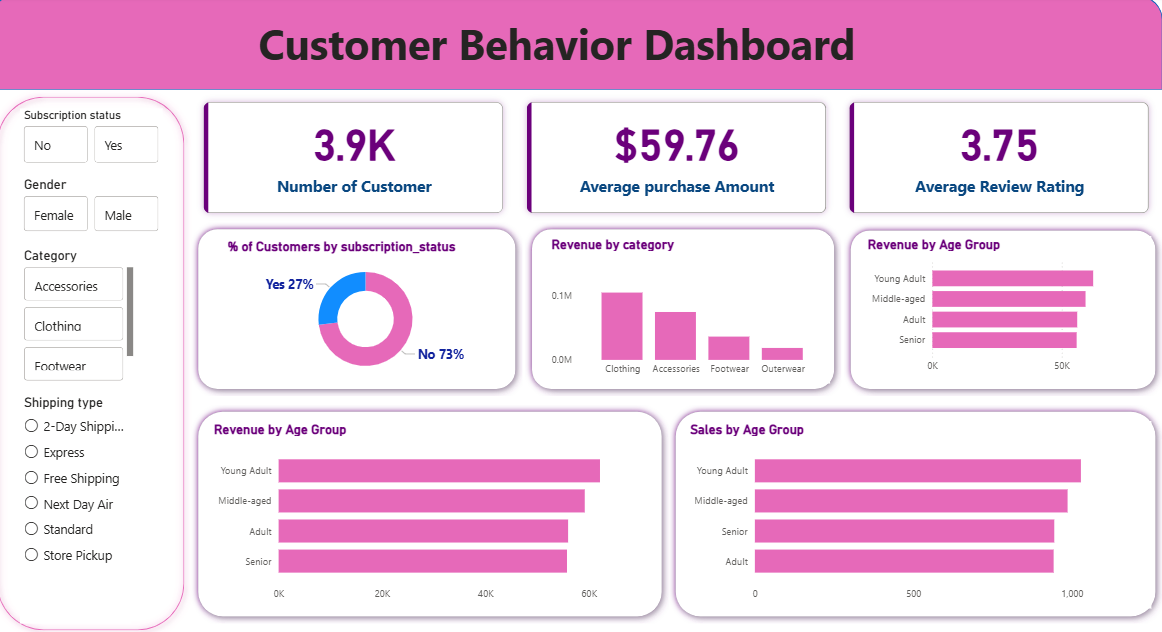

This screenshot's page, from the dashboard's own definition file:
{"tool":"powerbi","page":{"name":"Page 1","canvas":[1500,821],"ordinal":0},"visuals":[{"type":"cardVisual","fields":{"Data":["public customer.Number of Customer","public customer.Average purchase Amount","public customer.Average Review Rating"]},"box":[257.5,120,1242.8,174.3],"z":0},{"type":"shape","box":[0,0,1500.3,120],"z":1000},{"type":"textbox","box":[163.1,19.2,1124.4,81.6],"z":2000},{"type":"shape","box":[257.5,289.5,423.9,222.3],"z":3000},{"type":"donutChart","title":"% of Customers by subscription_status","fields":{"Category":["public customer.subscription_status"],"Y":["CountNonNull(public customer.customer_id)"]},"box":[299.1,310.3,363.1,185.5],"z":4000},{"type":"shape","box":[684.6,289.5,404.7,222.3],"z":5000},{"type":"shape","box":[1092.1,291.1,407.9,220.7],"z":6000},{"type":"clusteredColumnChart","title":"Revenue by category","fields":{"Y":["Sum(public customer.purchase_amount)"],"Category":["public customer.category"]},"box":[713.4,307.1,361.5,188.7],"z":7000},{"type":"clusteredColumnChart","title":"Sales by category","fields":{"Category":["public customer.category"],"Y":["Sum(public customer.customer_id)"]},"box":[281.5,543.8,566.2,239.9],"z":8000},{"type":"shape","box":[0,120,257.5,700.6],"z":9000},{"type":"advancedSlicerVisual","title":"Subscription status","fields":{"Values":["public customer.subscription_status"]},"box":[38.4,144,182.3,75.2],"z":10000},{"type":"advancedSlicerVisual","fields":{"Values":["public customer.gender"]},"box":[38.4,230.3,182.3,76.8],"z":11000},{"type":"advancedSlicerVisual","fields":{"Values":["public customer.category"]},"box":[38.4,321.5,150.4,177.5],"z":12000},{"type":"listSlicer","fields":{"Values":["public customer.shipping_type"]},"box":[38.4,507,142.4,295.9],"z":13000},{"type":"shape","box":[257.5,523,611,279.9],"z":14000},{"type":"shape","box":[868.5,523,631.8,279.9],"z":15000},{"type":"clusteredBarChart","title":"Revenue by Age Group","fields":{"Y":["Sum(public customer.purchase_amount)"],"Category":["public customer.age_group"]},"box":[1118,307.1,367.9,183.9],"z":16000},{"type":"clusteredBarChart","title":"Sales by Age Group","fields":{"Category":["public customer.age_group"],"Y":["CountNonNull(public customer.customer_id)"]},"box":[890.9,543.8,595,239.9],"z":17000},{"type":"clusteredBarChart","title":"Revenue by Age Group","fields":{"Category":["public customer.age_group"],"Y":["Sum(public customer.purchase_amount)"]},"box":[281.5,543.8,566.2,239.9],"z":18000}]}

Visuals, with their boxes in screenshot pixels (x1, y1, x2, y2), scaled from the page's 1500x821 canvas onto the 1162x632 screenshot:
cardVisual - public customer.Number of Customer x public customer.Average purchase Amount: <box>199,92,1161,227</box>
shape: <box>0,0,1161,92</box>
textbox: <box>126,15,997,78</box>
shape: <box>199,223,528,394</box>
"% of Customers by subscription_status" donutChart: <box>232,239,513,382</box>
shape: <box>530,223,844,394</box>
shape: <box>846,224,1161,394</box>
"Revenue by category" clusteredColumnChart: <box>553,236,833,382</box>
"Sales by category" clusteredColumnChart: <box>218,419,657,603</box>
shape: <box>0,92,199,631</box>
"Subscription status" advancedSlicerVisual: <box>30,111,171,169</box>
advancedSlicerVisual - public customer.gender: <box>30,177,171,236</box>
advancedSlicerVisual - public customer.category: <box>30,247,146,384</box>
listSlicer - public customer.shipping_type: <box>30,390,140,618</box>
shape: <box>199,403,673,618</box>
shape: <box>673,403,1161,618</box>
"Revenue by Age Group" clusteredBarChart: <box>866,236,1151,378</box>
"Sales by Age Group" clusteredBarChart: <box>690,419,1151,603</box>
"Revenue by Age Group" clusteredBarChart: <box>218,419,657,603</box>
